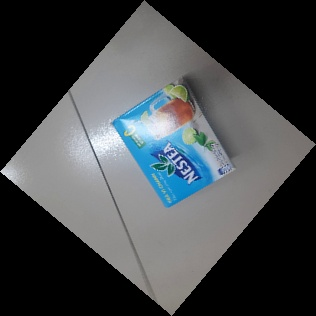Nestea: (110, 74, 235, 208)
